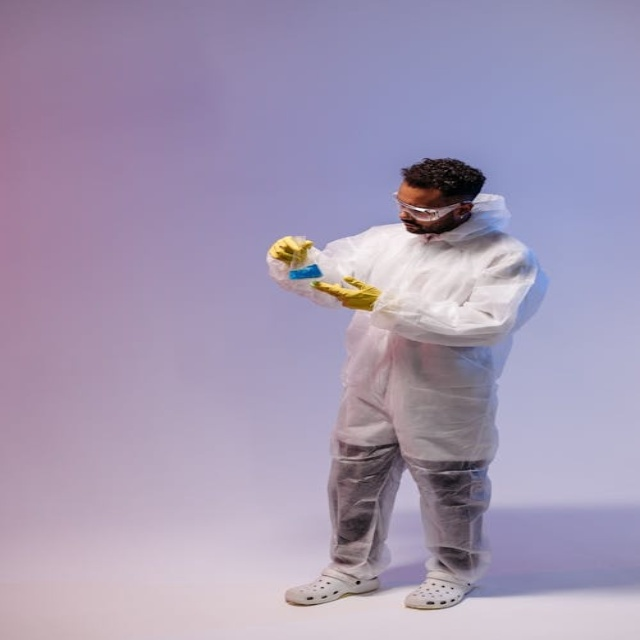Gafas: (395, 191, 472, 221)
Guantes: (311, 276, 383, 312), (268, 235, 313, 266)
Sin_mascara: (402, 221, 429, 233)
